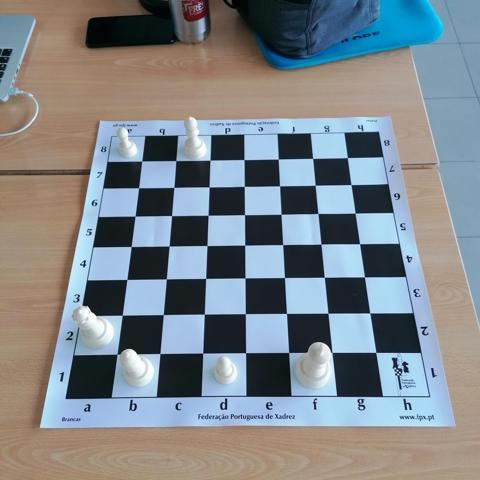xcorner: (135, 153, 151, 168), (123, 239, 139, 254), (158, 271, 173, 287), (202, 178, 217, 194), (237, 151, 253, 166), (237, 178, 253, 193), (237, 206, 252, 222), (279, 306, 294, 322), (311, 205, 327, 220), (317, 270, 333, 285), (132, 180, 147, 195), (128, 208, 143, 223), (119, 272, 134, 287), (114, 308, 129, 323), (108, 347, 123, 362), (169, 153, 184, 168), (167, 179, 182, 194), (164, 208, 179, 223), (161, 238, 176, 253), (155, 308, 170, 323), (151, 347, 166, 362), (203, 152, 218, 167), (201, 207, 216, 222), (199, 238, 214, 253), (198, 271, 213, 286), (196, 307, 211, 322), (194, 347, 209, 362), (237, 237, 252, 252), (237, 271, 252, 286), (237, 307, 252, 322), (237, 346, 252, 361), (272, 151, 287, 166), (273, 177, 288, 192), (274, 206, 289, 221), (276, 237, 291, 252), (277, 270, 292, 285), (281, 346, 296, 361), (306, 150, 321, 165), (309, 177, 324, 192), (314, 236, 329, 251), (321, 306, 336, 321), (325, 346, 340, 361), (341, 149, 356, 164), (345, 176, 360, 191), (349, 205, 364, 220), (353, 236, 368, 251), (358, 269, 373, 284), (363, 306, 378, 321), (369, 346, 384, 361)
